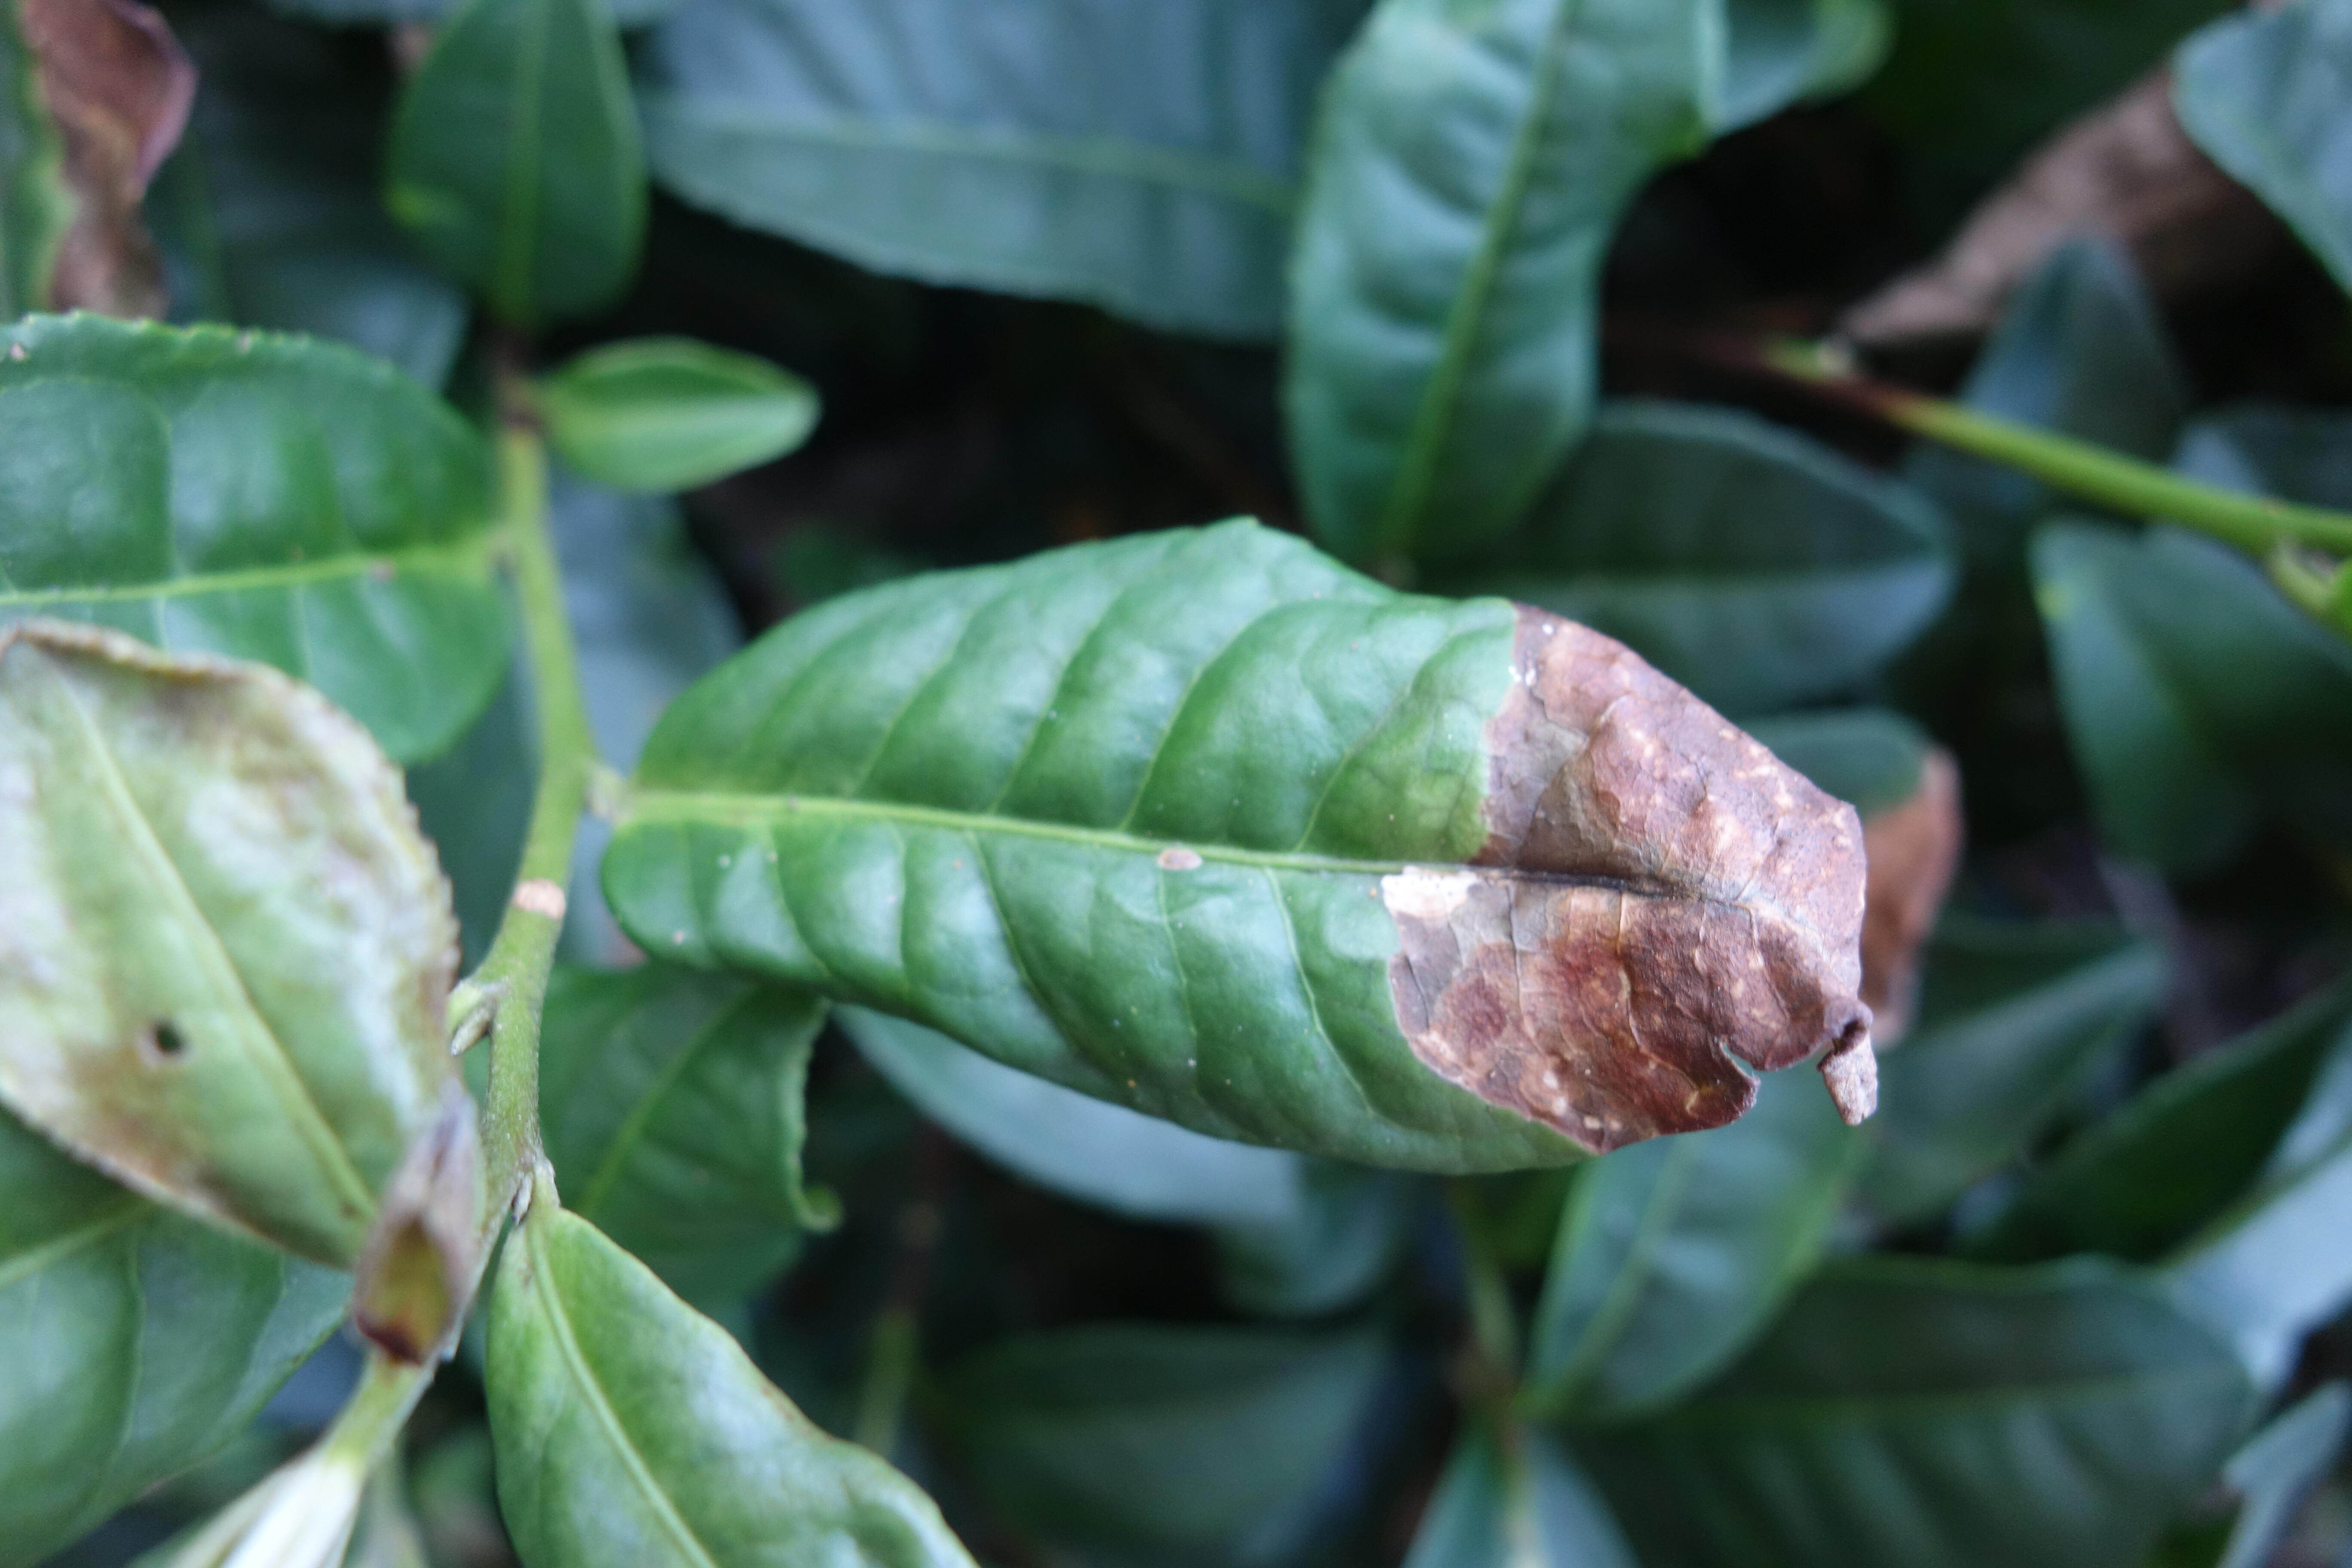healthy: (490, 1207, 997, 1564)
tanju_high: (595, 514, 1879, 1174)
tanju_low: (0, 623, 464, 1272)
